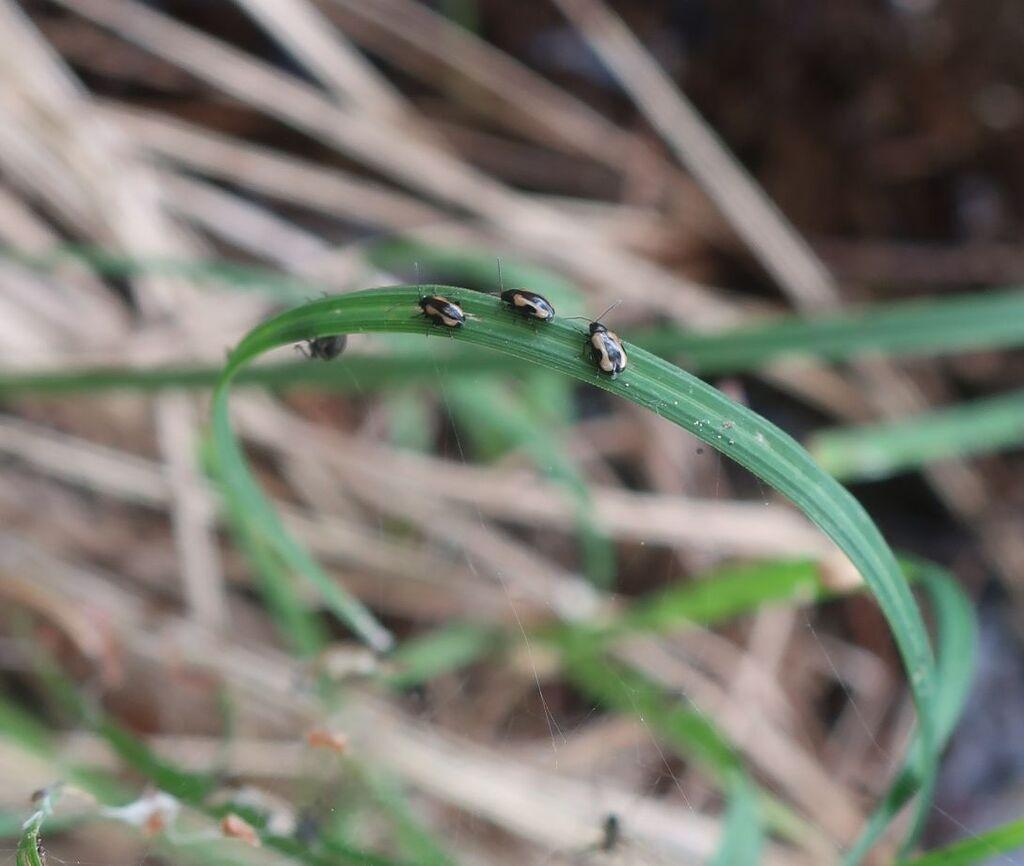flea_beetle: (558, 295, 654, 398), (487, 267, 574, 343), (403, 276, 486, 350)
